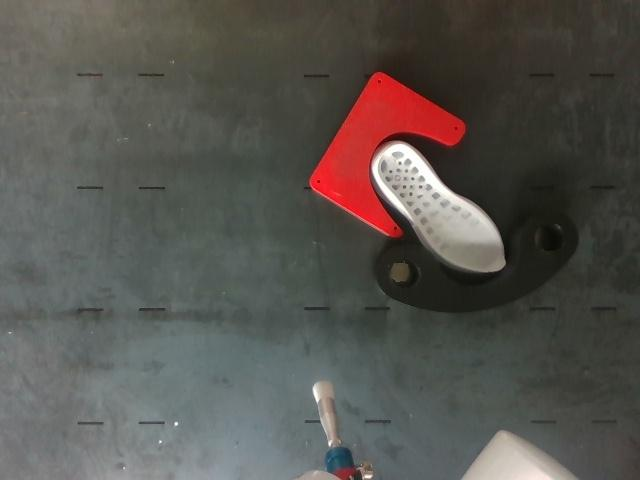shoes: (378, 144, 505, 272)
